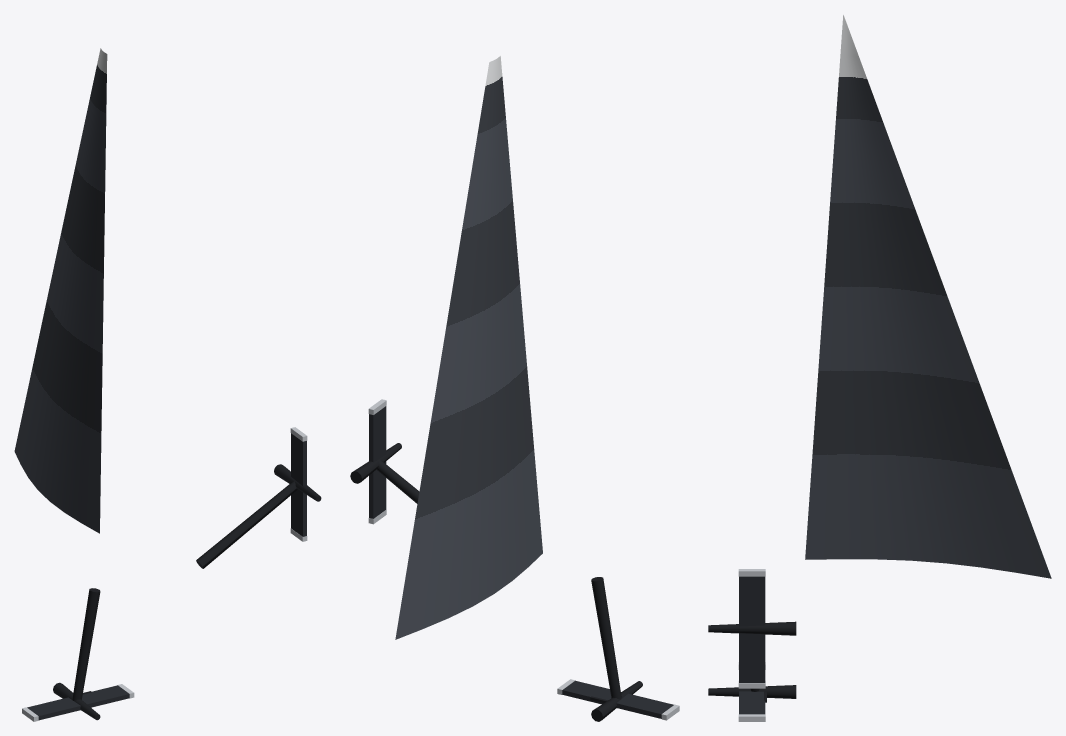
The model's file is foils_p.glb.
3 renders of one model, left to right at view 1: azimuth 30°, elevation 25°; view 2: azimuth 150°, elevation 25°; view 3: azimuth 270°, elevation 25°, orthographic. The views are drawn at different scales.
Visible parts, largest first — view 1: foils_p_body; view 2: foils_p_body; view 3: foils_p_body.
Boxes of the visible parts, x1,y1,x2,y2 form: foils_p_body: [14, 48, 321, 721]; foils_p_body: [350, 56, 679, 721]; foils_p_body: [708, 15, 1051, 721].
Size of the model in its own units: 12.14 by 27.15 by 11.7.
Materials: 1 (1 with a texture image).
